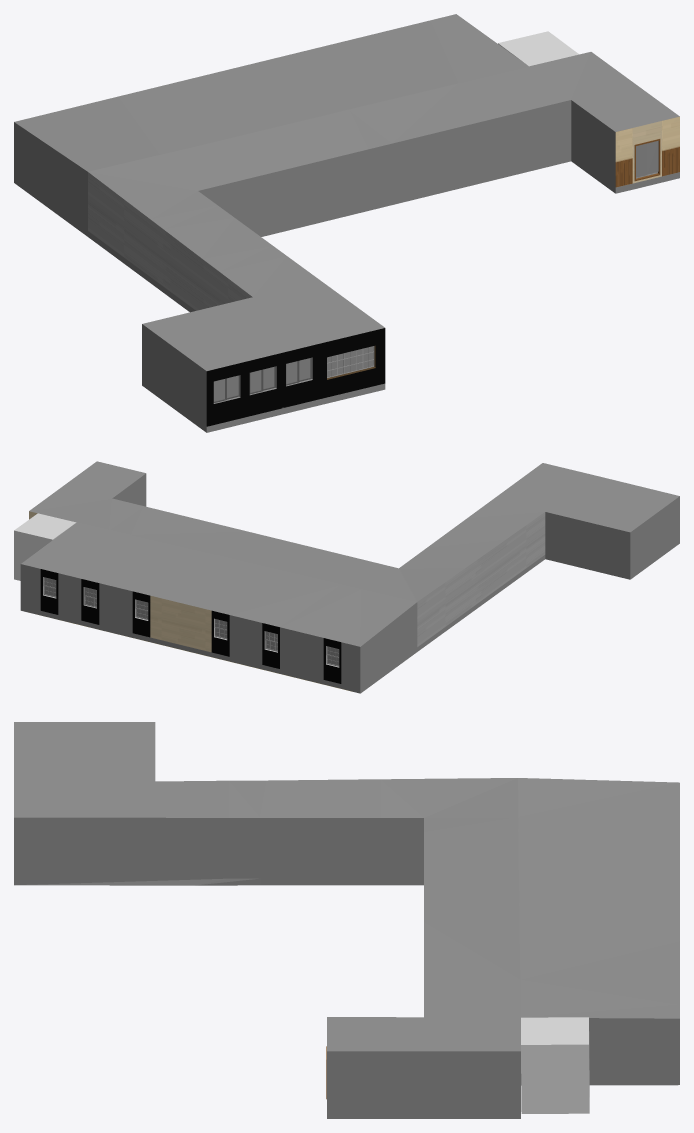
File: Office_Def_New.FBX
3 views of the same model, one above another, from view 1: azimuth 30°, elevation 25°; view 2: azimuth 150°, elevation 25°; view 3: azimuth 270°, elevation 25° (orthographic). The views are drawn at different scales.
Parts seen in each view (by area): view 1: Planimetria, Box001, finestra ufficio012; view 2: Planimetria, Box001; view 3: Planimetria, Box001.
Boxes of the visible parts, left/top/right/bottom form: Planimetria: left=14, top=14, right=679, bottom=432; Box001: left=498, top=31, right=578, bottom=66; finestra ufficio012: left=327, top=346, right=374, bottom=377; Planimetria: left=20, top=461, right=679, bottom=693; Box001: left=14, top=513, right=76, bottom=580; Planimetria: left=14, top=722, right=679, bottom=1118; Box001: left=521, top=1017, right=589, bottom=1113.
Size of the model in its own units: 41.51 by 4.32 by 35.52.
